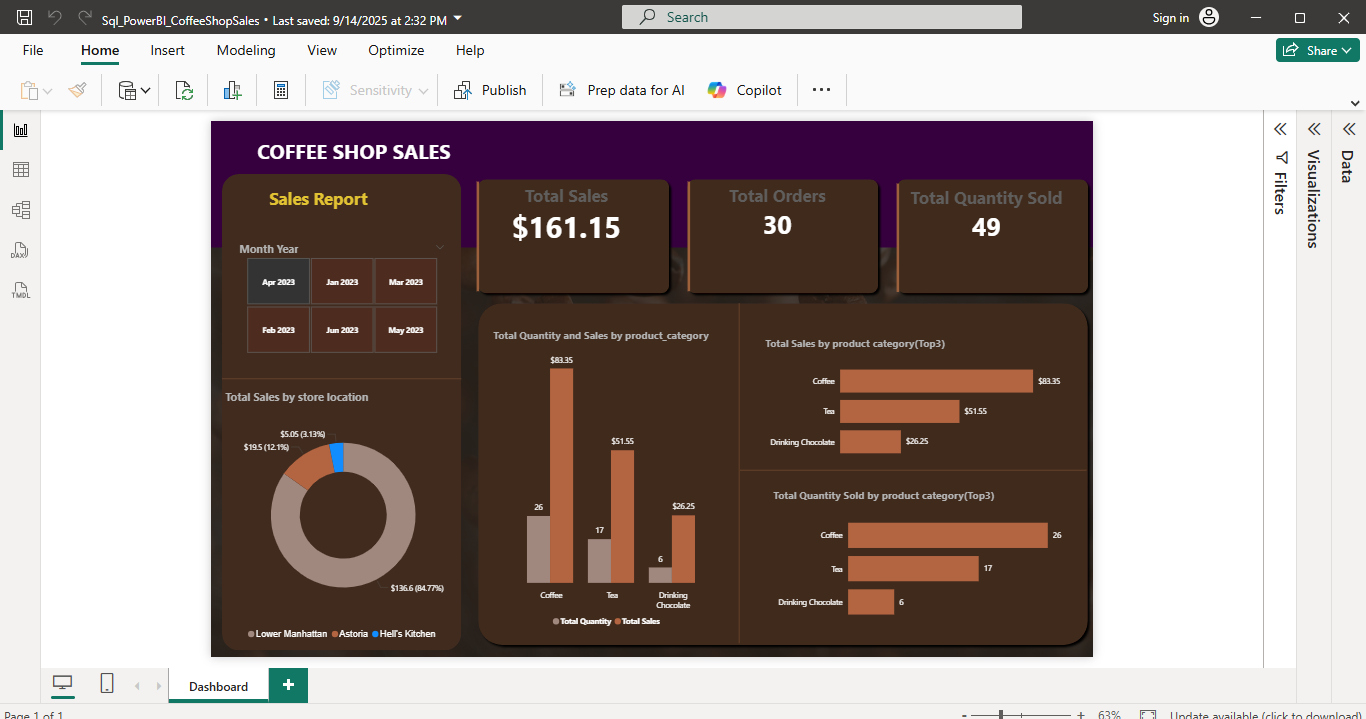

This screenshot's page, from the dashboard's own definition file:
{"tool":"powerbi","page":{"name":"Dashboard","canvas":[1400,850],"ordinal":0},"visuals":[{"type":"shape","box":[416.6,281.1,983.9,558.9],"z":0},{"type":"shape","box":[0,0,1400.5,200.8],"z":1000},{"type":"shape","box":[16.7,83.7,379.8,756.3],"z":2000},{"type":"shape","box":[416.6,83.7,319.6,197.4],"z":3000},{"type":"textbox","box":[68.5,21.3,327.5,112.7],"z":4000},{"type":"cardVisual","fields":{"Data":["Transactions.Total Sales"]},"box":[401.6,77,299.5,199.1],"z":5000},{"type":"slicer","fields":{"Values":["Date_Table.Month_Year"]},"box":[31.8,185.7,351.4,189.1],"z":6000},{"type":"shape","box":[747.9,83.7,319.6,197.4],"z":7000},{"type":"cardVisual","fields":{"Data":["Transactions.Total Orders"]},"box":[736.2,77,299.5,199.1],"z":8000},{"type":"shape","box":[1080.9,83.7,319.6,197.4],"z":9000},{"type":"cardVisual","fields":{"Data":["Transactions.Total Quantity Sold"]},"box":[1067.5,78.6,299.5,197.4],"z":10000},{"type":"donutChart","title":"Total Sales by store location","fields":{"Category":["Transactions.store_location"],"Y":["Transactions.Total Sales"]},"box":[16.7,425,384.8,408.3],"z":11000},{"type":"shape","box":[16.7,341.3,379.8,135.5],"z":12000},{"type":"clusteredBarChart","fields":{"Category":["Transactions.product_category"],"Y":["Transactions.Total Sales"]},"box":[875.1,341.3,480.2,212.5],"z":13000},{"type":"textbox","box":[87,100.4,212.5,55.2],"z":14000},{"type":"clusteredColumnChart","title":"Total Quantity and Sales by product_category","fields":{"Category":["Transactions.product_category"],"Y":["Transactions.Total Quantity Sold","Transactions.Total Sales"]},"box":[443.4,328,373.1,483.6],"z":15000},{"type":"clusteredBarChart","fields":{"Category":["Transactions.product_category"],"Y":["Transactions.Total Quantity Sold"]},"box":[886.8,582.3,468.5,229.2],"z":16000},{"type":"shape","box":[840,481.9,550.5,143.9],"z":17000},{"type":"shape","box":[816.5,289.5,45.2,540.5],"z":17001}]}

Visuals, with their boxes on the page's 1400x850 design canvas (x1, y1, x2, y2). These are canvas units, not pixel positions in the 1366x719 screenshot, which may show the page scaled, cropped or inside an application window:
shape: [417,281,1400,840]
shape: [0,0,1400,201]
shape: [17,84,396,840]
shape: [417,84,736,281]
textbox: [68,21,396,134]
cardVisual - Transactions.Total Sales: [402,77,701,276]
slicer - Date_Table.Month_Year: [32,186,383,375]
shape: [748,84,1068,281]
cardVisual - Transactions.Total Orders: [736,77,1036,276]
shape: [1081,84,1400,281]
cardVisual - Transactions.Total Quantity Sold: [1068,79,1367,276]
"Total Sales by store location" donutChart: [17,425,402,833]
shape: [17,341,396,477]
clusteredBarChart - Transactions.product_category x Transactions.Total Sales: [875,341,1355,554]
textbox: [87,100,300,156]
"Total Quantity and Sales by product_category" clusteredColumnChart: [443,328,816,812]
clusteredBarChart - Transactions.product_category x Transactions.Total Quantity Sold: [887,582,1355,812]
shape: [840,482,1390,626]
shape: [816,290,862,830]
